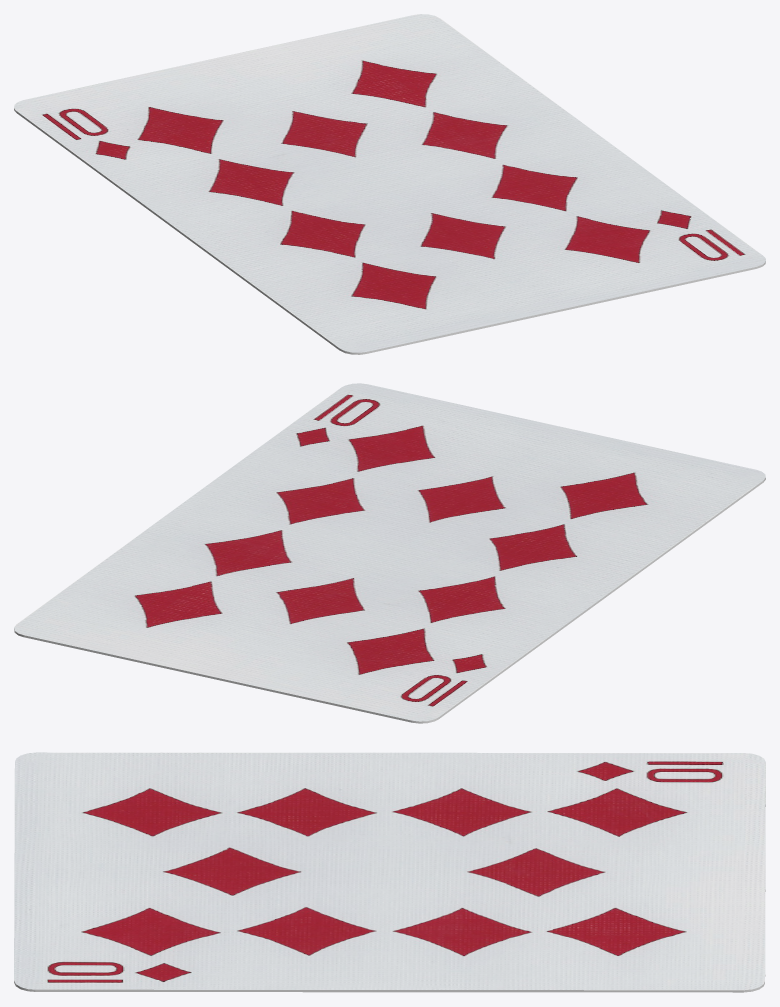
The model's file is diamonds10.fbx.
3 views of the same model, one above another, from view 1: azimuth 30°, elevation 25°; view 2: azimuth 150°, elevation 25°; view 3: azimuth 270°, elevation 25° (orthographic). The views are drawn at different scales.
Parts seen in each view (by area): view 1: Diamonds_10_5; view 2: Diamonds_10_5; view 3: Diamonds_10_5.
Boxes of the visible parts, x1,y1,x2,y2 form: Diamonds_10_5: (14,14,765,354); Diamonds_10_5: (14,383,765,723); Diamonds_10_5: (14,752,765,992).
Size of the model in its own units: 6.27 by 0.1779 by 8.81.
